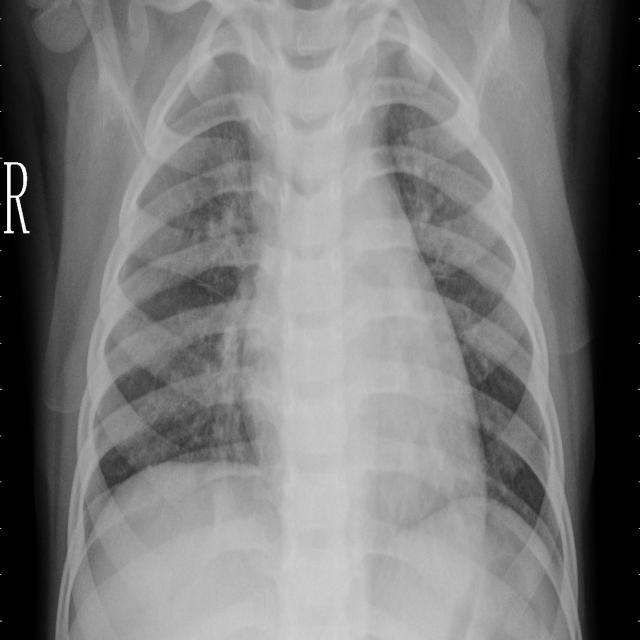low-pneumonia: (396, 112, 454, 270), (200, 292, 251, 446), (197, 136, 254, 266)
